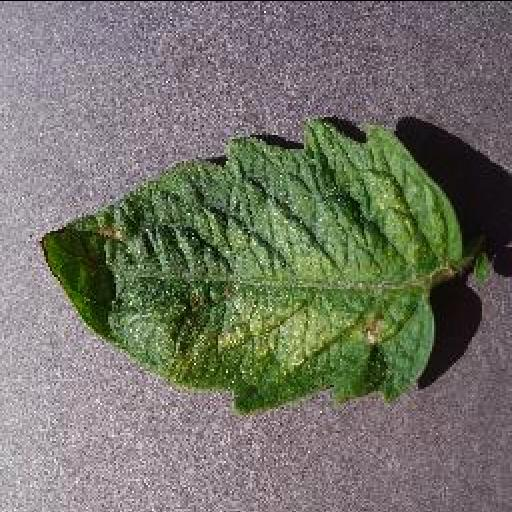disease_tomato: (38, 114, 470, 416)
